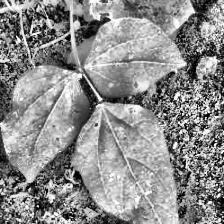ALS: (86, 98, 182, 224), (4, 64, 81, 172), (85, 21, 188, 96), (88, 0, 190, 27)
